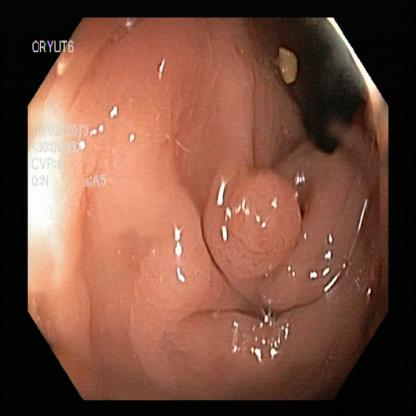Labels: (34, 37, 108, 188)
Polyps: (204, 162, 300, 276), (269, 37, 311, 92)
